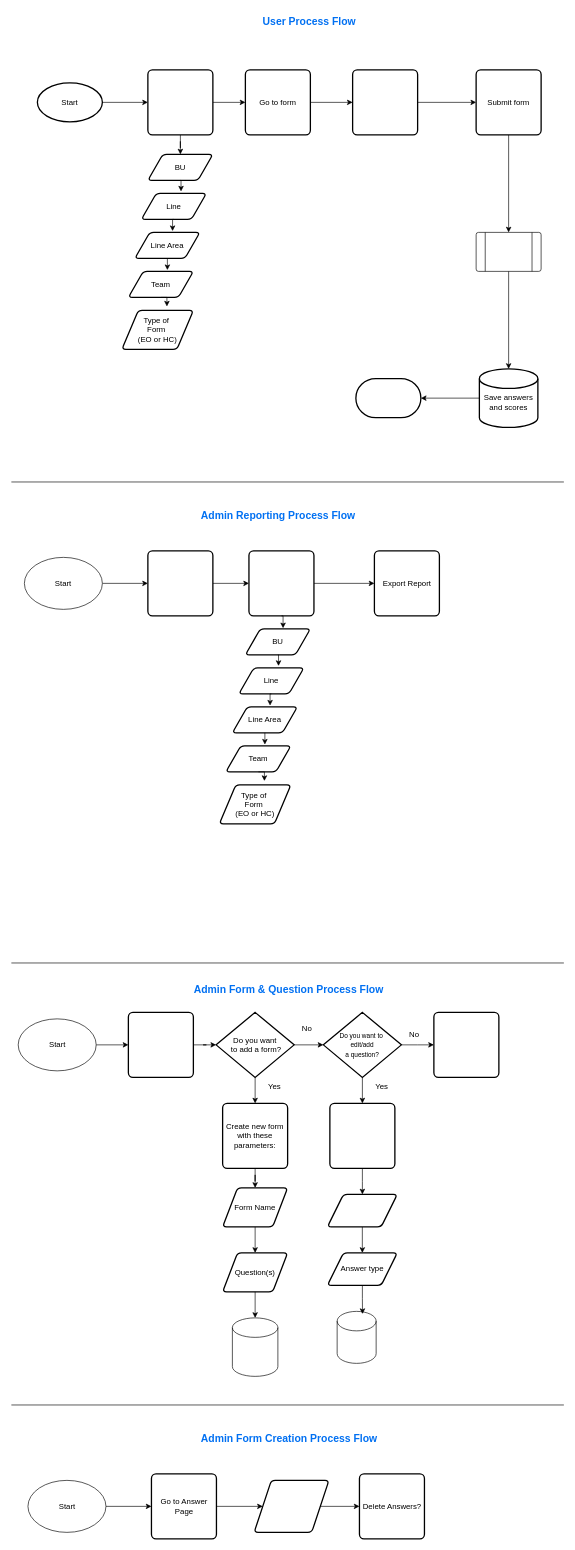
This 575x1550 diagram has some shape labels left out. The centre of each missing label's shape, as x and y in pixels:
"Calculation of form scores" belongs at point (508, 251).
"Choose Form Parameters:" belongs at point (180, 102).
"Delete a question" belongs at point (466, 1044).
"Edit/Add Question:" belongs at point (362, 1135).
"End" belongs at point (388, 398).
"Fill out form" belongs at point (385, 102).
"Filter Answers" belongs at point (291, 1506).
"Filter report by:" belongs at point (281, 583).
"Form Page" belongs at point (160, 1044).
"Go to Report Page" belongs at point (180, 583).
"Question" belongs at point (362, 1210).
"Save form & question(s)" belongs at point (255, 1346).
"Save question" belongs at point (356, 1337).
